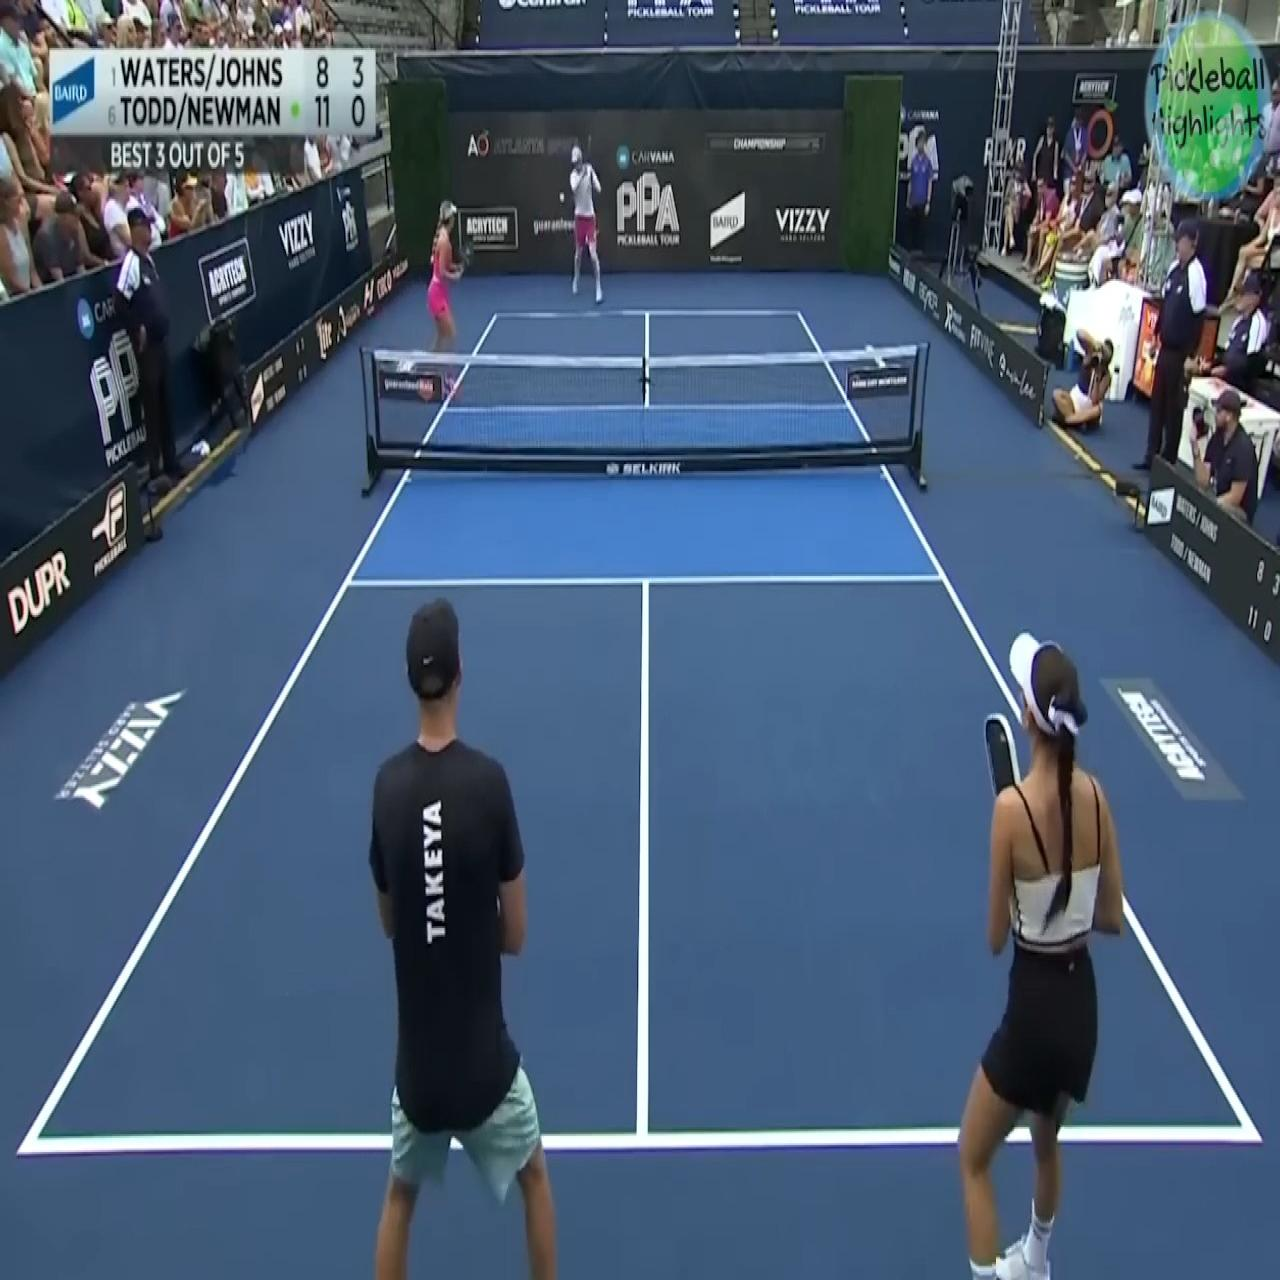Pickleball: (556, 189, 567, 207)
